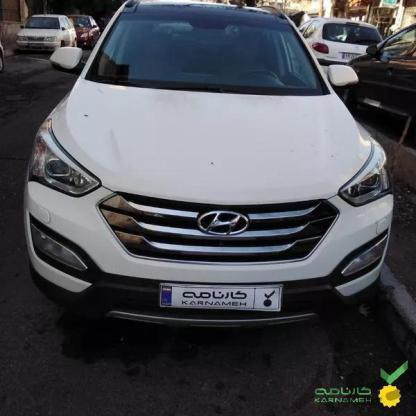Car: (18, 0, 395, 346), (340, 29, 416, 138), (290, 7, 372, 98), (3, 9, 68, 64), (70, 12, 95, 43)
